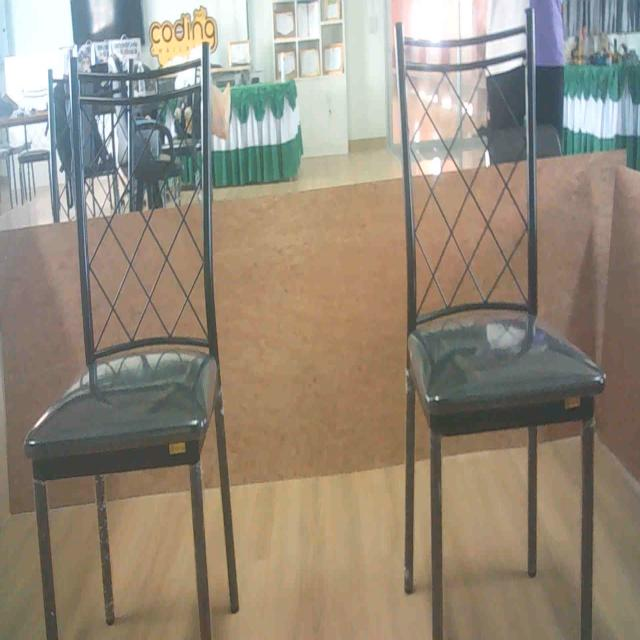empty: (379, 23, 613, 445), (24, 48, 222, 482)
